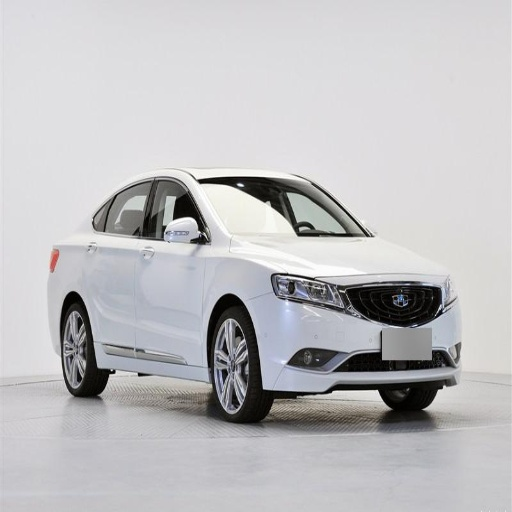back_right_door: (85, 178, 154, 354), (265, 183, 295, 248)
front_bumper: (253, 272, 464, 391)
front_right_door: (136, 176, 206, 362), (285, 182, 353, 252)
front_right_light: (272, 274, 349, 310)
